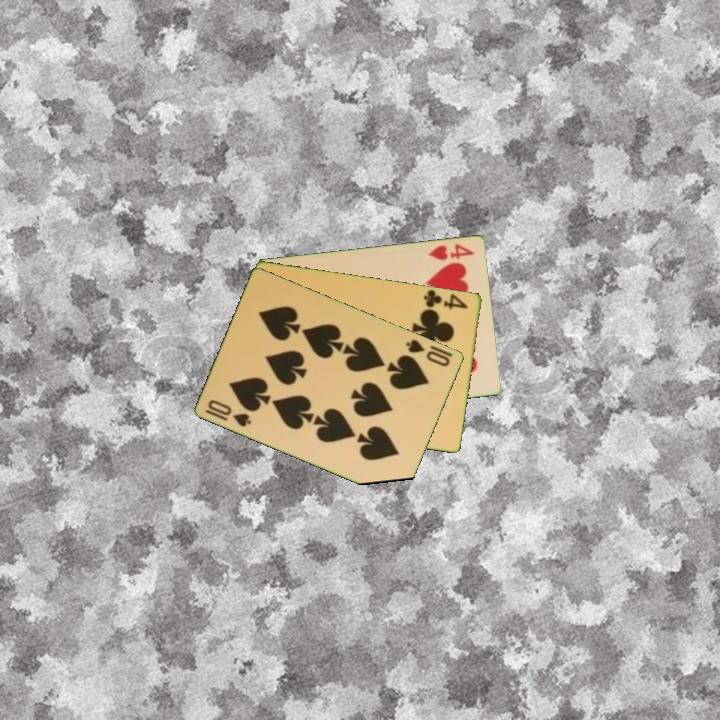10s: (202, 396, 255, 430), (402, 335, 453, 369)
4c: (420, 287, 471, 313)
4h: (425, 240, 477, 263)
